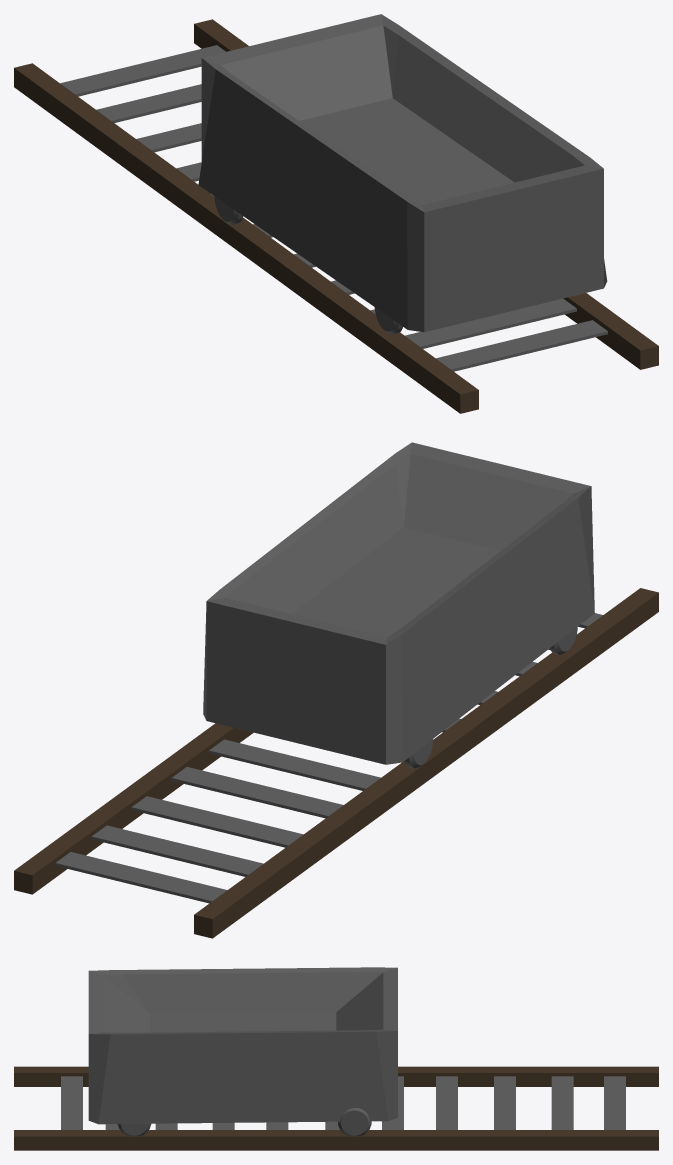
Rendered from Cart with rails.fbx.
3 renders of one model, top to bottom at view 1: azimuth 30°, elevation 25°; view 2: azimuth 150°, elevation 25°; view 3: azimuth 270°, elevation 25°, orthographic. The views are drawn at different scales.
Parts seen in each view (by area): view 1: pCylinder272; view 2: pCylinder272; view 3: pCylinder272.
Boxes of the visible parts, box(x1,y1,x2,y2) form: pCylinder272: box(14, 14, 658, 413); pCylinder272: box(14, 442, 658, 938); pCylinder272: box(14, 967, 658, 1150).
Size of the model in its own units: 8.15 by 5.98 by 30.29.
